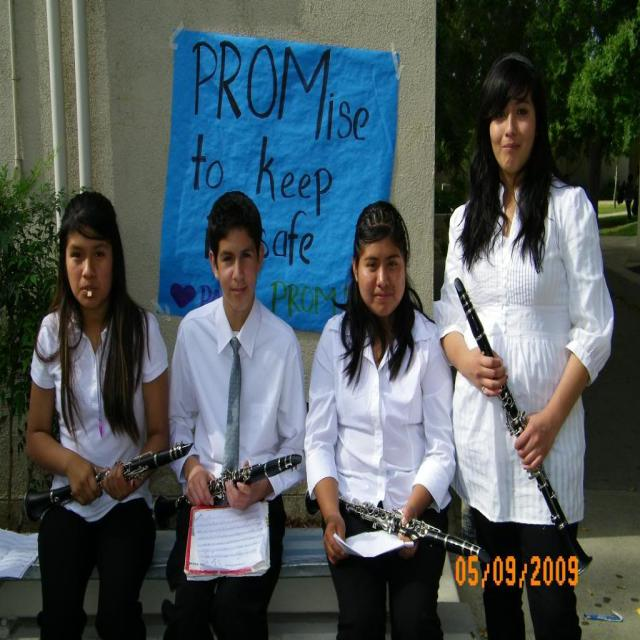clarinet: (452, 274, 596, 576), (304, 481, 496, 571), (21, 432, 195, 527), (151, 447, 304, 531)
